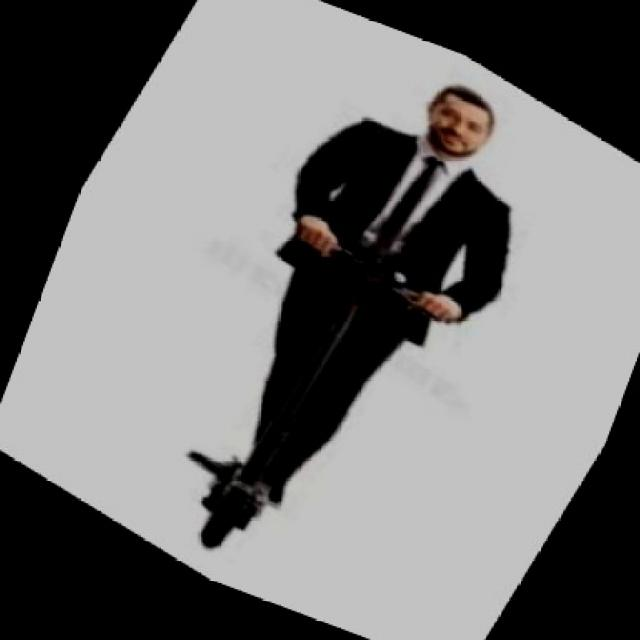bare_head: (399, 73, 517, 171)
human: (228, 26, 536, 513)
kickboard: (169, 433, 290, 573)
